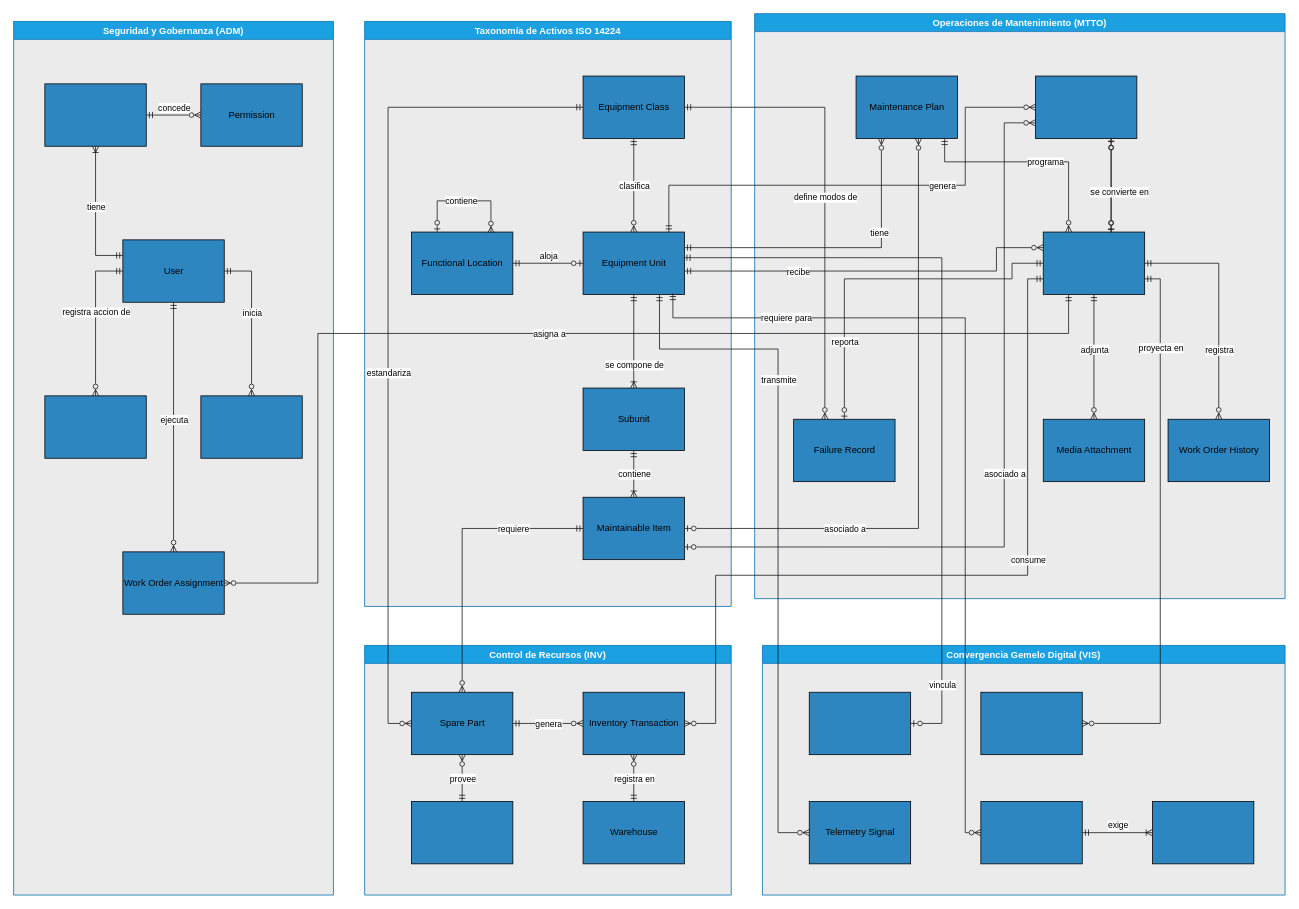
Some shapes in this 1299 by 909 pixel diagram are drawn without their labels. The shapes that lost their labels are listed below. From the top down, each one's centre as x and y in pixels, then its label:
[95,114]: Role
[1086,106]: Work Request
[1093,262]: Work Order
[95,426]: Audit Log
[251,426]: Auth Token
[859,723]: Mesh Mapping
[1031,723]: Visual Layer
[462,832]: Supplier
[1031,832]: Work Permit
[1203,832]: Isolation Point
